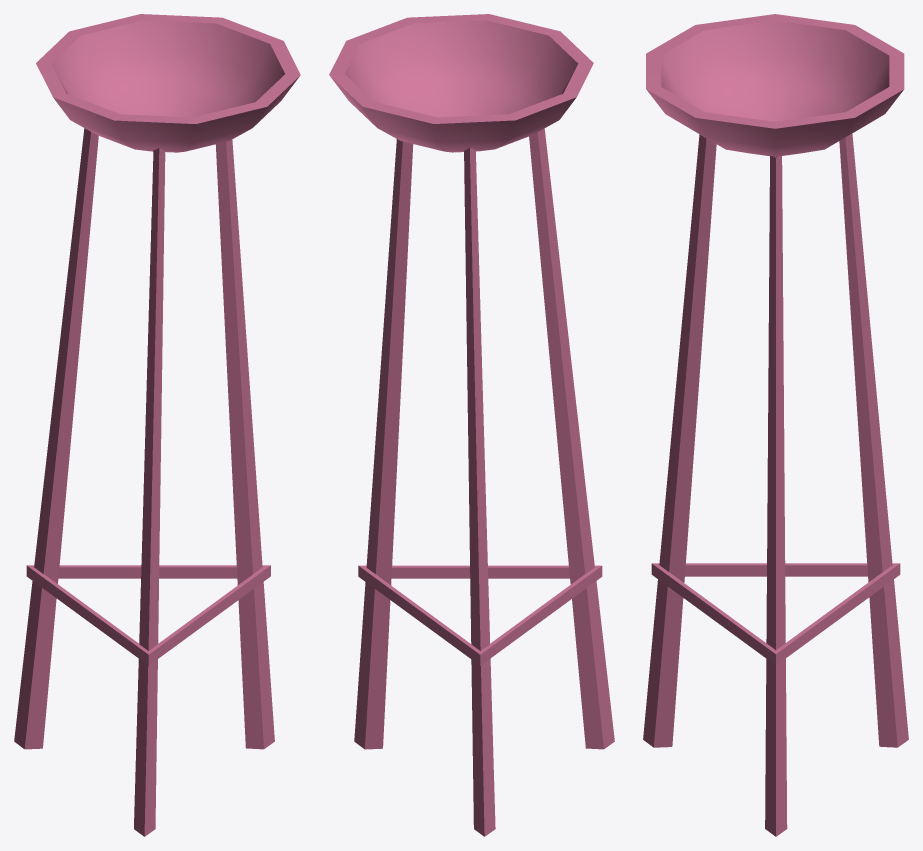
File: Lamp_3.fbx
3 views of the same model, side by side, from view 1: azimuth 30°, elevation 25°; view 2: azimuth 150°, elevation 25°; view 3: azimuth 270°, elevation 25° (orthographic). The views are drawn at different scales.
Visible parts, largest first — view 1: Lamp_3; view 2: Lamp_3; view 3: Lamp_3.
Boxes of the visible parts, x1,y1,x2,y2 form: Lamp_3: (14, 14, 300, 836); Lamp_3: (329, 14, 614, 836); Lamp_3: (643, 14, 908, 836).
Bounding box in the file's own units: 68.41 × 198 × 66.95.
